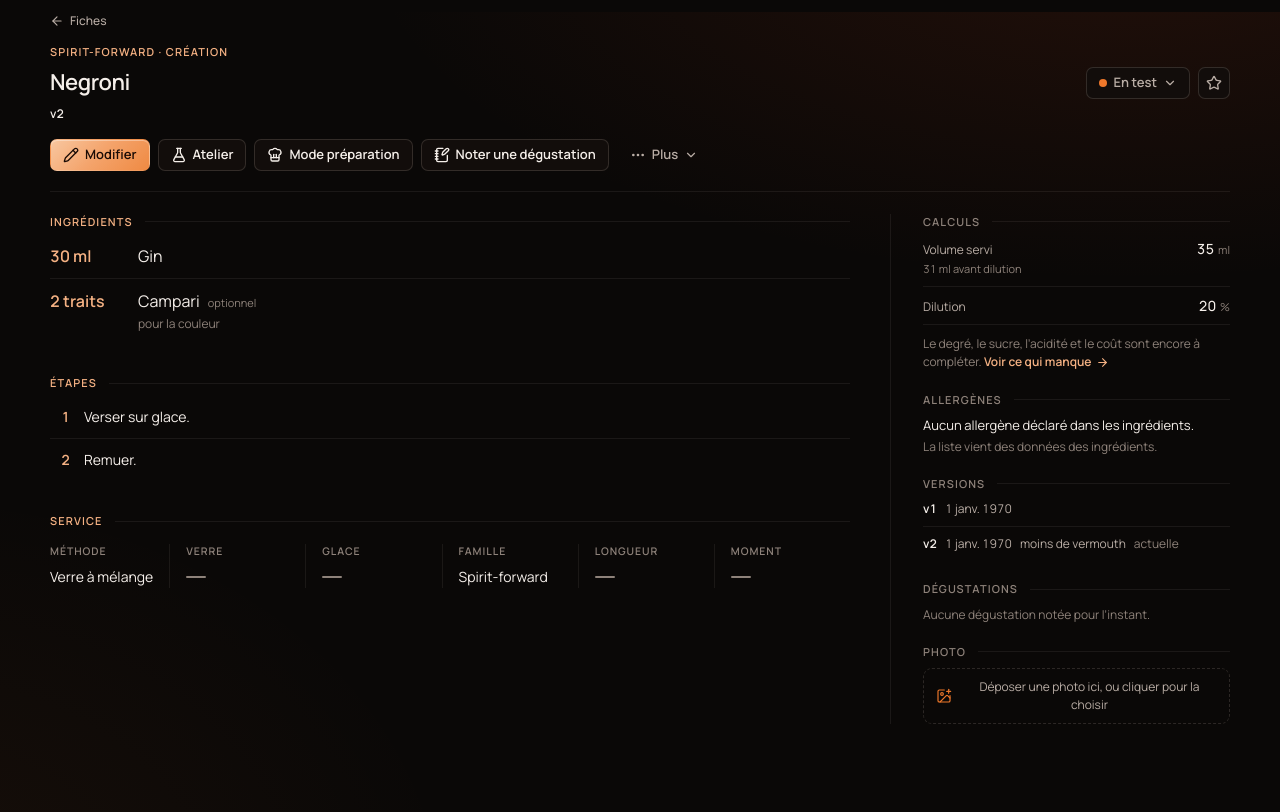
Test: RecipeDetailPage › changes the status and the favorite flag
Expected: the heading "Negroni" is shown, left=50, top=69, right=130, bottom=96
Click the button with aria-label "Statut".
click(1138, 82)  # box left=1086, top=66, right=1190, bottom=98
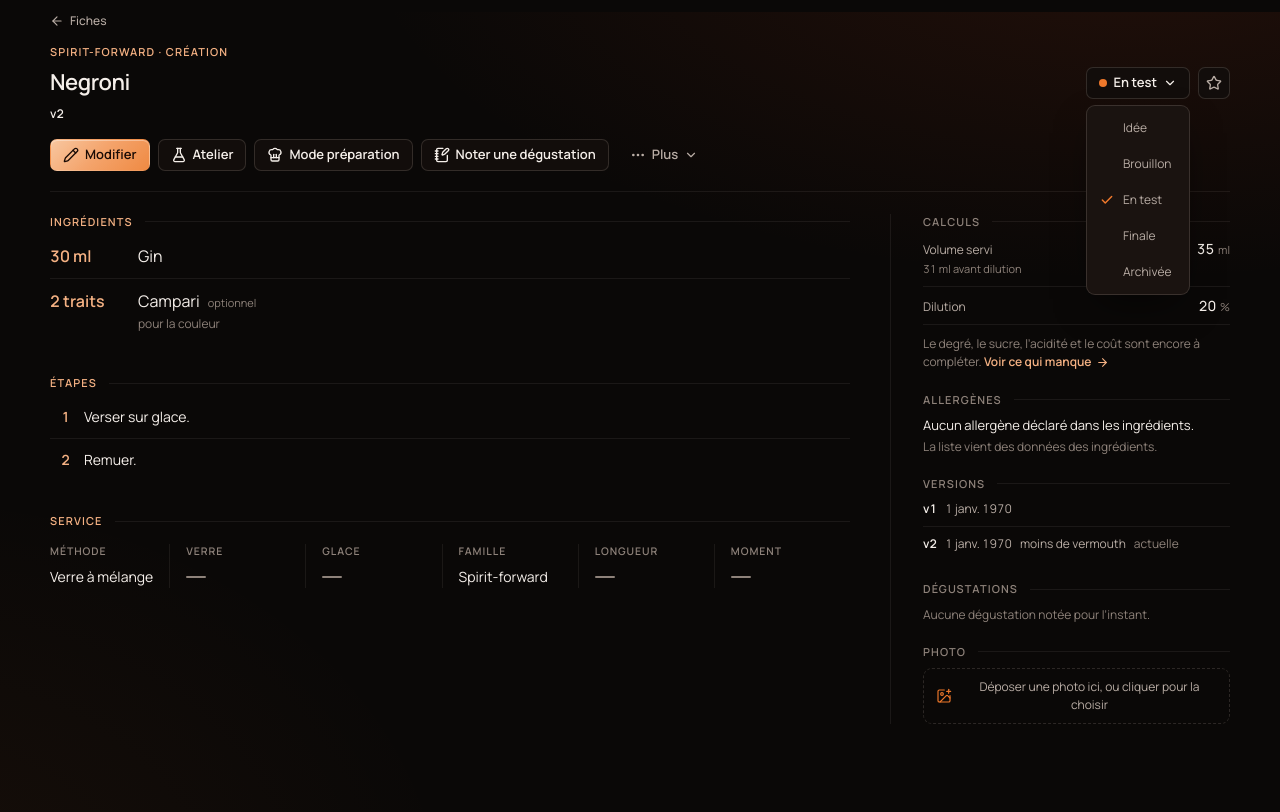
Click the menu item "Finale".
click(1139, 236)  # box left=1123, top=227, right=1156, bottom=244
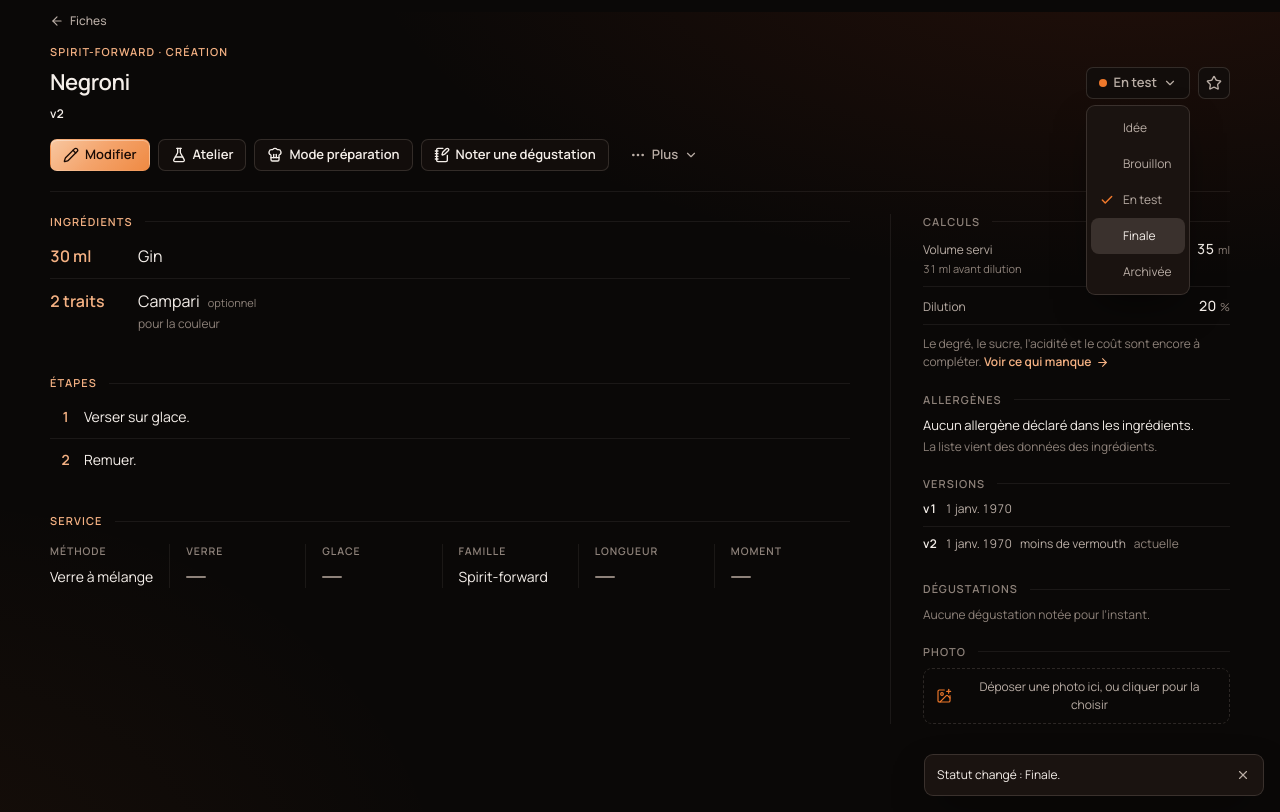
Click the button named "Ajouter aux favoris".
click(1214, 82)  # box left=1198, top=66, right=1230, bottom=98
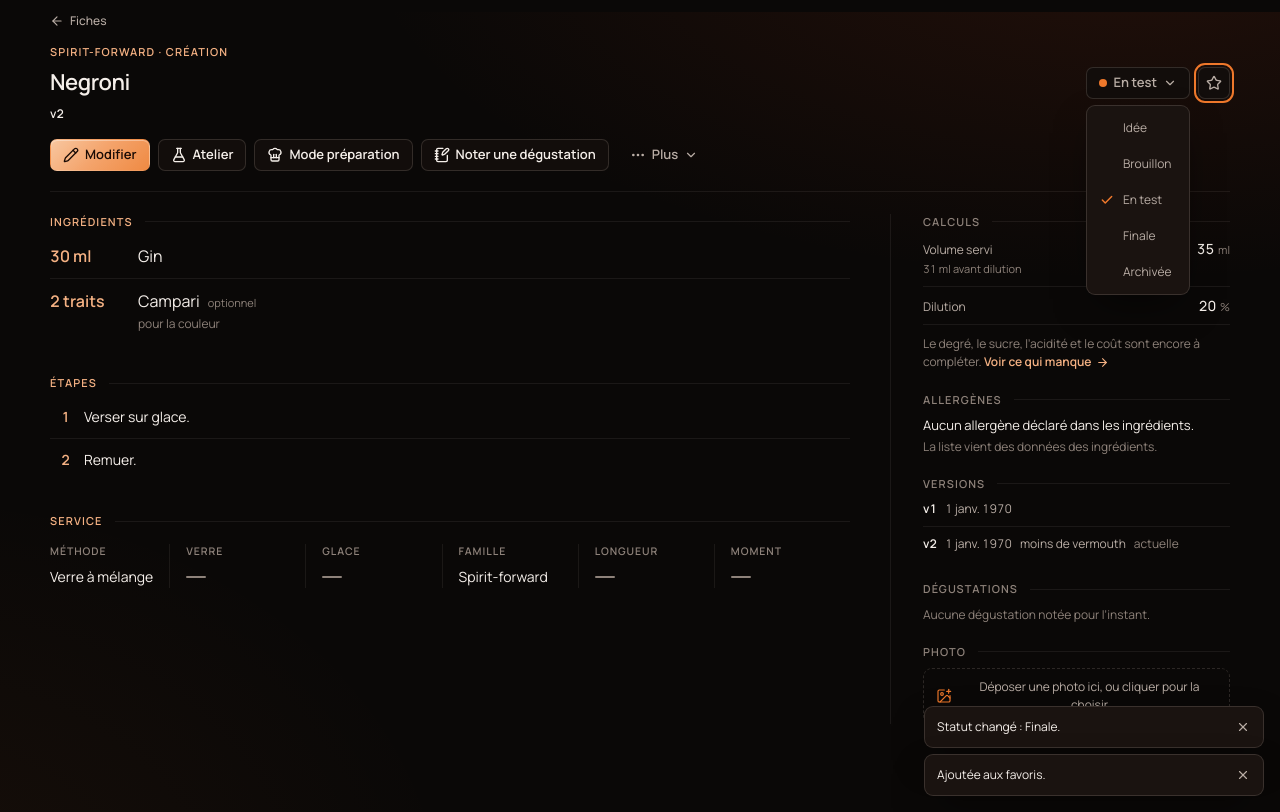
Expected: the text "Ajoutée aux favoris." is shown, left=937, top=766, right=1046, bottom=783
